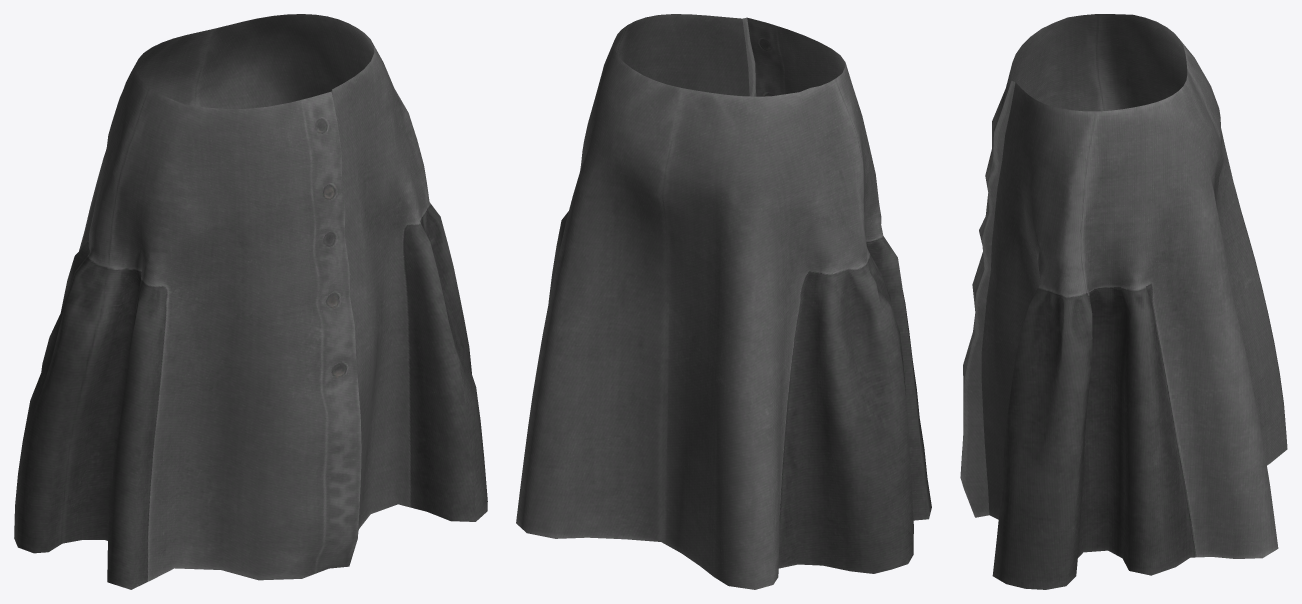
File: clo_sk_dwarf_dress_normal_a.fbx
3 views of the same model, side by side, from view 1: azimuth 30°, elevation 25°; view 2: azimuth 150°, elevation 25°; view 3: azimuth 270°, elevation 25° (orthographic). The views are drawn at different scales.
Visible parts, largest first — view 1: clo_sk_dwarf_dress_normal_a; view 2: clo_sk_dwarf_dress_normal_a; view 3: clo_sk_dwarf_dress_normal_a.
Part boxes in pixels (x1,y1,x2,y2): clo_sk_dwarf_dress_normal_a: (14,14,487,589); clo_sk_dwarf_dress_normal_a: (516,14,931,589); clo_sk_dwarf_dress_normal_a: (960,14,1287,589).
Bounding box in the file's own units: 0.6887 × 0.5049 × 0.757.
1 material, 1 textured.
